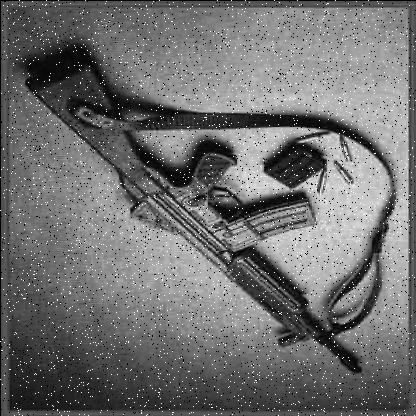rifle: (20, 34, 378, 386)
